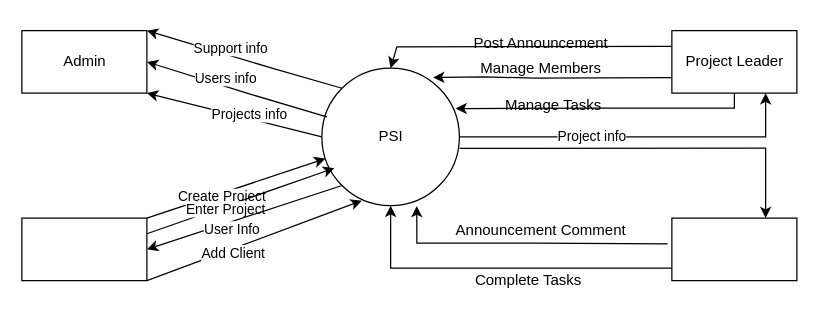
Image size: 819x315. Some labels were removed from this diagram. Here are the shapes that lost their labels. From the top down, the box of each, then its label:
(21, 217, 147, 281): User
(671, 217, 797, 281): Project Member
